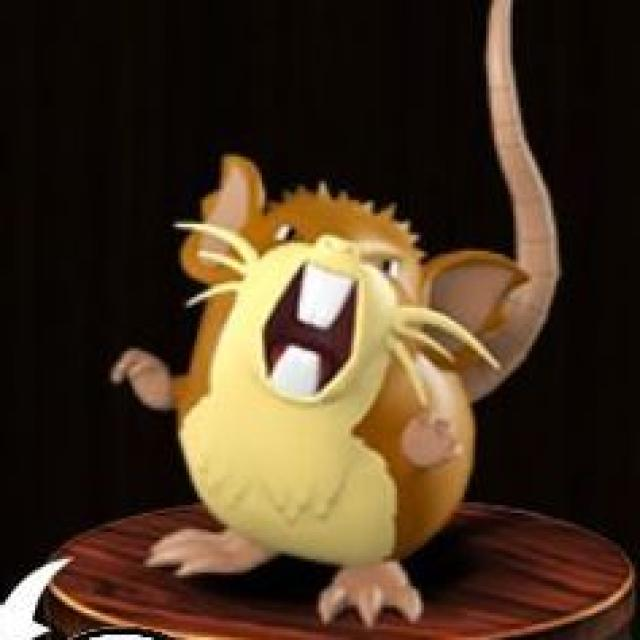Raticate: (163, 155, 531, 610)
